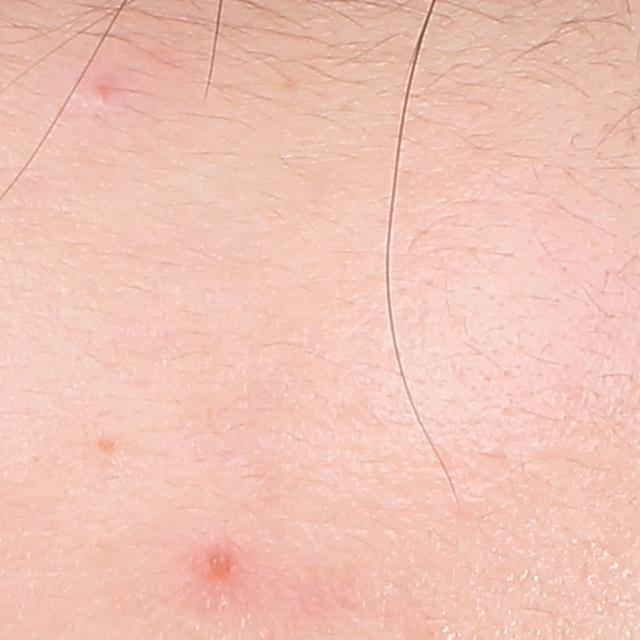papule: (203, 549, 245, 584)
